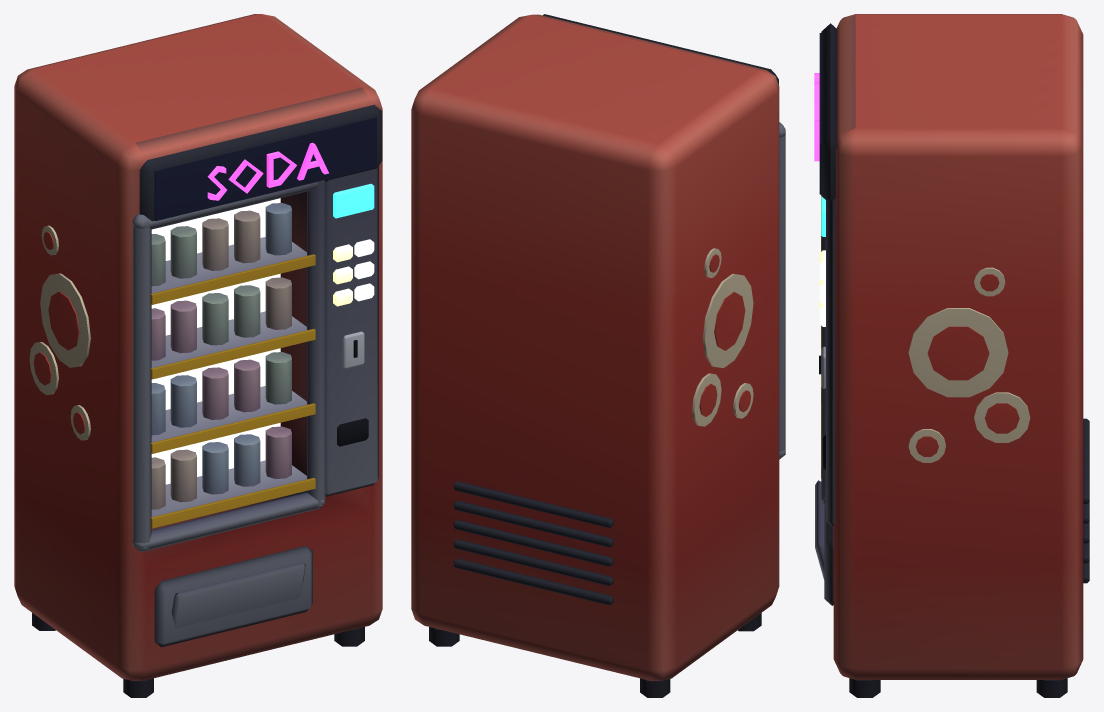
Rendered from distributeur.glb.
3 renders of one model, left to right at view 1: azimuth 30°, elevation 25°; view 2: azimuth 150°, elevation 25°; view 3: azimuth 270°, elevation 25°, orthographic. The views are drawn at different scales.
Visible parts, largest first — view 1: distributeur, box.005, texte, box.015; view 2: distributeur; view 3: distributeur, texte.
Part boxes in pixels (x1,y1,x2,y2): distributeur: (14,14,382,697); box.005: (151,198,280,484); texte: (207,142,328,200); box.015: (333,183,374,218); distributeur: (411,14,785,697); distributeur: (815,14,1089,697); texte: (814,73,819,161).
Size of the model in its own units: 1.02 by 2.01 by 0.882.
